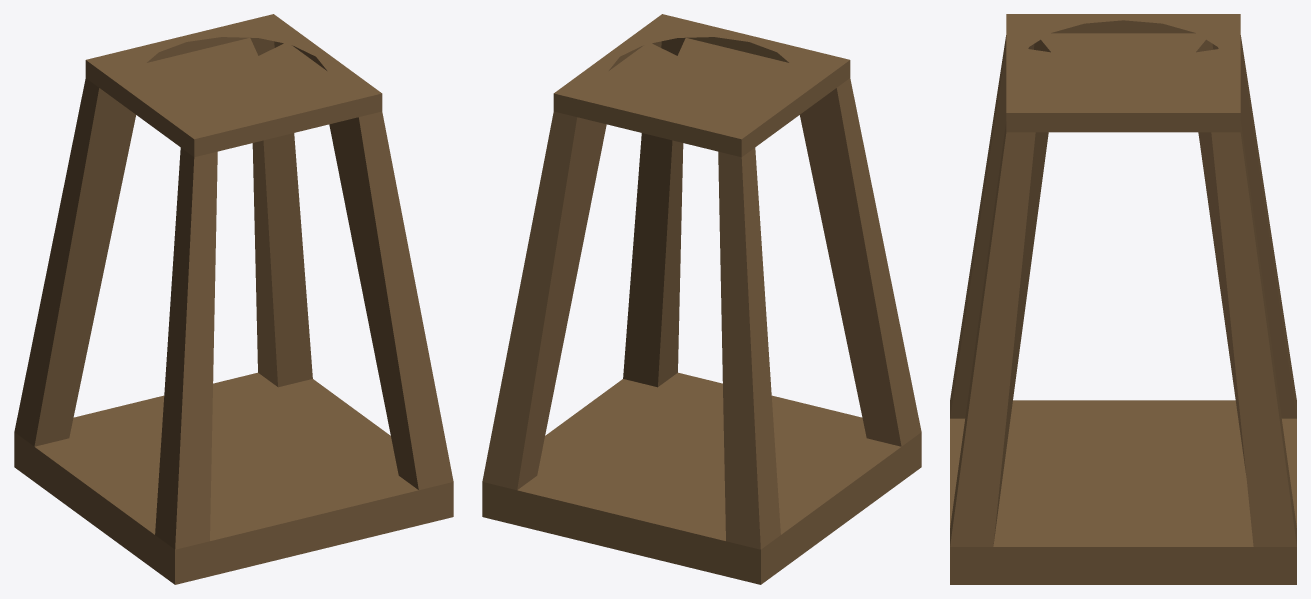
File: stone_slinger_tower.fbx
3 renders of one model, left to right at view 1: azimuth 30°, elevation 25°; view 2: azimuth 150°, elevation 25°; view 3: azimuth 270°, elevation 25°, orthographic. The views are drawn at different scales.
Parts seen in each view (by area): view 1: tower; view 2: tower; view 3: tower.
Boxes of the visible parts, x1,y1,x2,y2 form: tower: (14,14,453,584); tower: (482,14,921,584); tower: (950,14,1296,584).
Size of the model in its own units: 234 by 334 by 234.
Materials: 1 (1 with a texture image).
